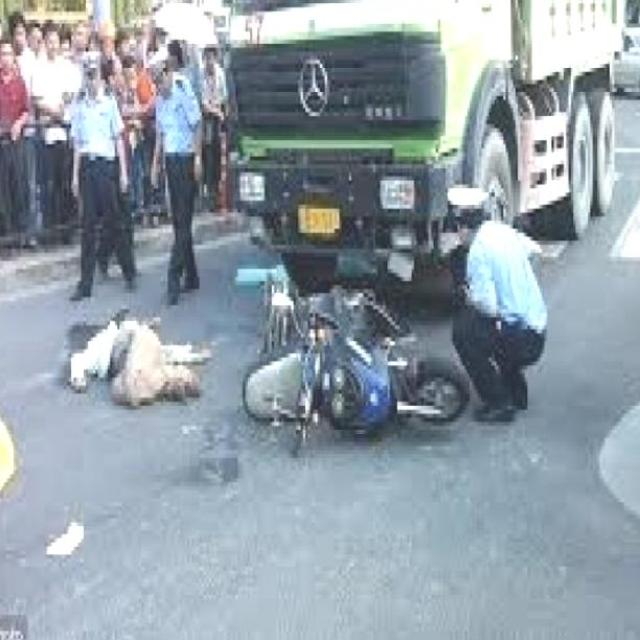accident: (234, 242, 474, 482)
